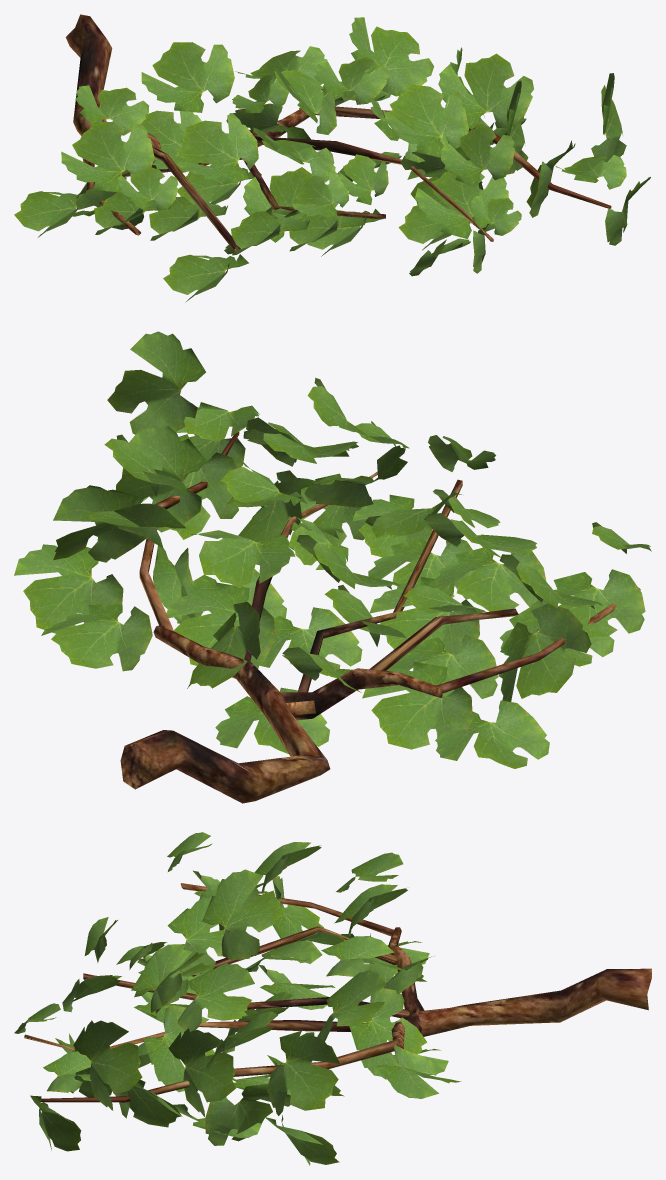
Rendered from vine_04.obj.
3 renders of one model, top to bottom at view 1: azimuth 30°, elevation 25°; view 2: azimuth 150°, elevation 25°; view 3: azimuth 270°, elevation 25°, orthographic. The views are drawn at different scales.
Visible parts, largest first — view 1: branches.007, leaf.430, leaf.429, leaf.478, leaf.451, leaf.479, trunk.010, leaf.448, leaf.456, leaf.423, leaf.462, leaf.436 (+32 smaller); view 2: trunk.010, branches.007, leaf.476, leaf.433, leaf.472, leaf.470, leaf.434, leaf.435, leaf.431, leaf.432, leaf.443, leaf.444 (+35 smaller); view 3: trunk.010, branches.007, leaf.427, leaf.432, leaf.476, leaf.431, leaf.420, leaf.467, leaf.475, leaf.479, leaf.421, leaf.434 (+22 smaller).
Part boxes in pixels (bbox=[...]): branches.007: bbox=[86, 106, 611, 250]; leaf.430: bbox=[141, 42, 234, 112]; leaf.429: bbox=[61, 122, 154, 192]; leaf.478: bbox=[438, 53, 533, 129]; leaf.451: bbox=[174, 113, 258, 184]; leaf.479: bbox=[349, 17, 433, 96]; trunk.010: bbox=[65, 14, 309, 176]; leaf.448: bbox=[383, 84, 468, 157]; leaf.456: bbox=[414, 171, 508, 238]; leaf.423: bbox=[440, 123, 514, 186]; leaf.462: bbox=[314, 57, 388, 104]; leaf.436: bbox=[163, 254, 248, 302]; trunk.010: bbox=[120, 625, 442, 803]; branches.007: bbox=[139, 432, 640, 695]; leaf.476: bbox=[107, 331, 205, 434]; leaf.433: bbox=[14, 544, 123, 633]; leaf.472: bbox=[362, 662, 472, 749]; leaf.470: bbox=[499, 603, 591, 701]; leaf.434: bbox=[41, 604, 152, 671]; leaf.435: bbox=[435, 700, 549, 768]; leaf.431: bbox=[115, 425, 206, 532]; leaf.432: bbox=[53, 485, 145, 562]; leaf.443: bbox=[433, 547, 546, 611]; leaf.444: bbox=[528, 569, 645, 636]; trunk.010: bbox=[388, 927, 651, 1048]; branches.007: bbox=[24, 883, 409, 1102]; leaf.427: bbox=[202, 869, 284, 960]; leaf.432: bbox=[267, 1030, 339, 1115]; leaf.476: bbox=[73, 1020, 142, 1110]; leaf.431: bbox=[168, 1028, 235, 1116]; leaf.420: bbox=[177, 963, 254, 1031]; leaf.467: bbox=[349, 988, 427, 1079]; leaf.475: bbox=[205, 1083, 290, 1145]; leaf.479: bbox=[317, 970, 386, 1041]; leaf.421: bbox=[167, 897, 225, 975]; leaf.434: bbox=[375, 1045, 461, 1098].
Size of the model in its own units: 1.38 by 0.5297 by 1.59.
2 materials, 2 textured.
